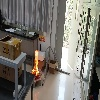fire: (31, 49, 39, 78)
